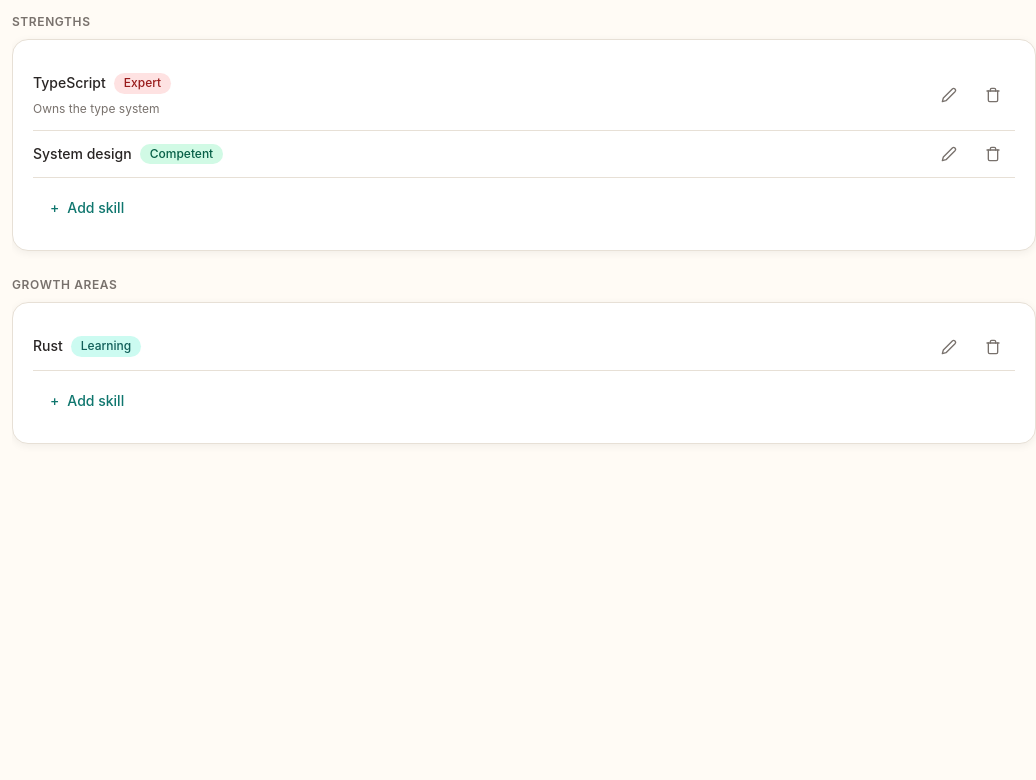
Test case: SkillsTab › closes the add form on Escape and returns focus to the add button
Click the button with aria-label "Add skill to Growth Areas" at (87, 401), box [33,379,141,423]
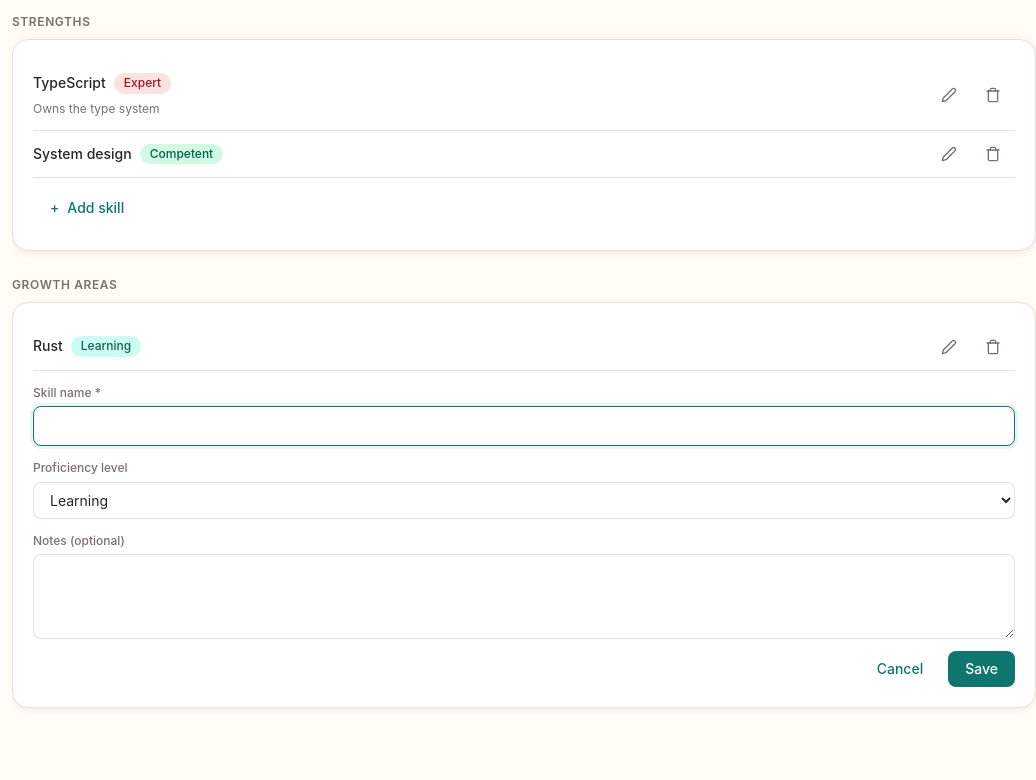
Press Escape
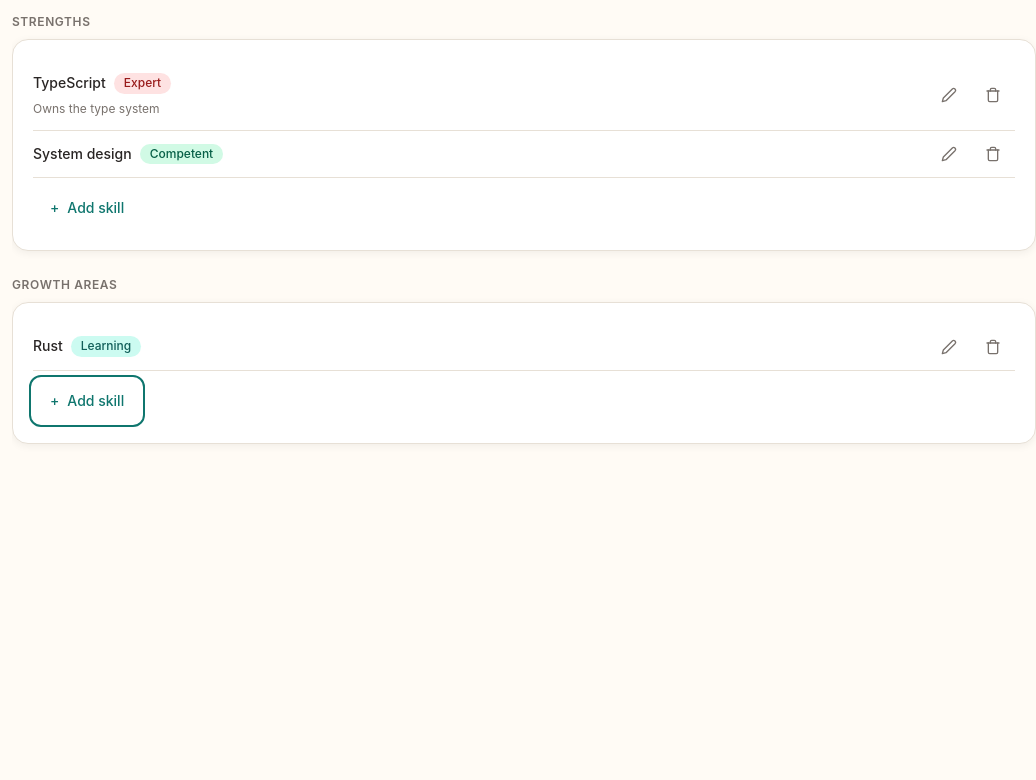
Result: the label "Skill name" is gone
